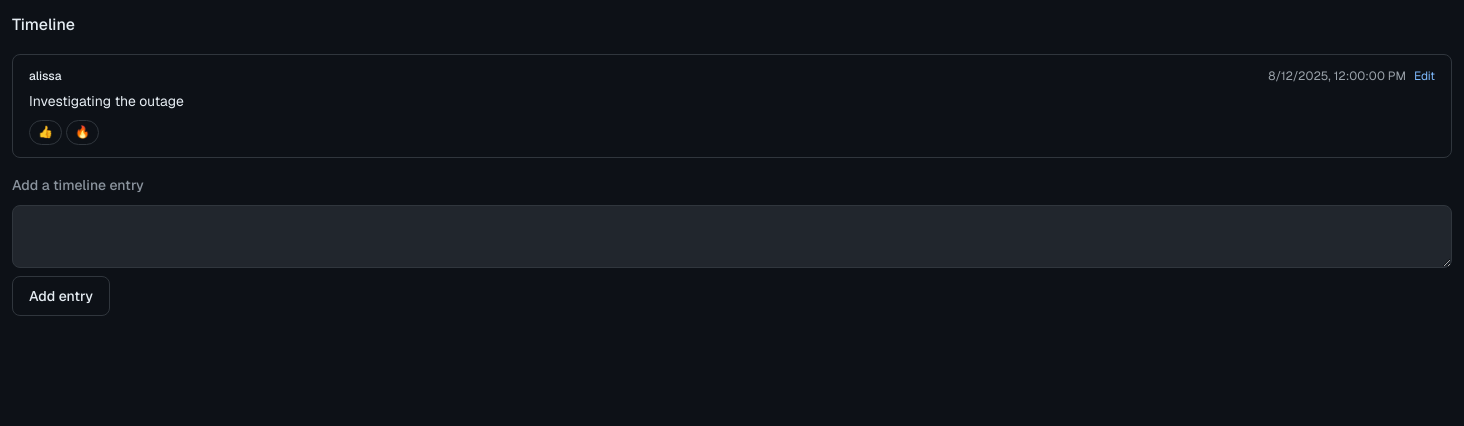
Scenario: Timeline — editing an entry › cancels editing without submitting anything
Click the button "Edit" at (1424, 76), box [1414,67,1435,86]
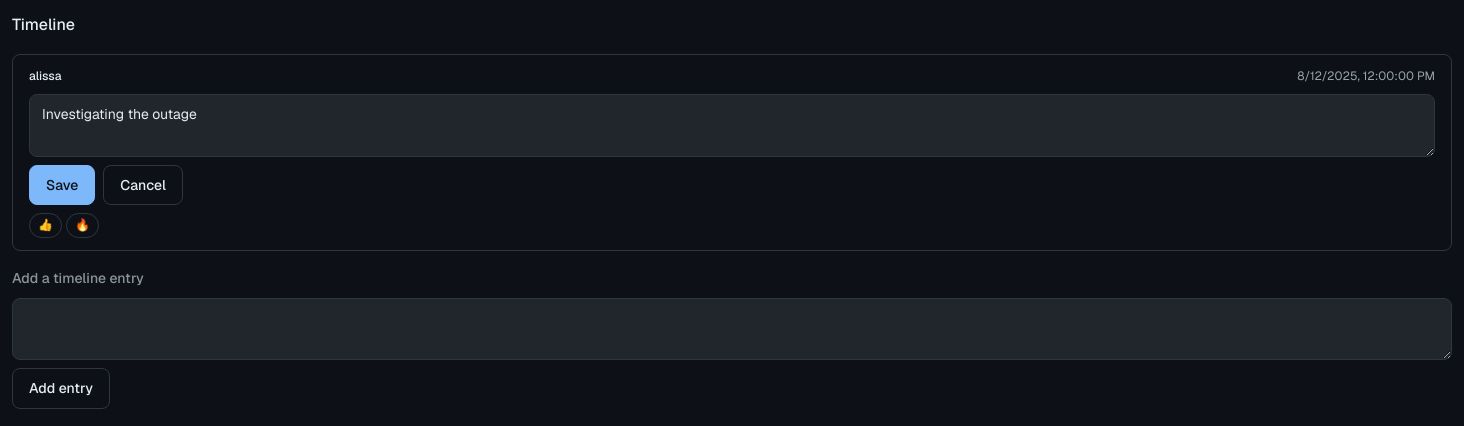
Click the button "Cancel" at (143, 185), box [103,165,183,205]
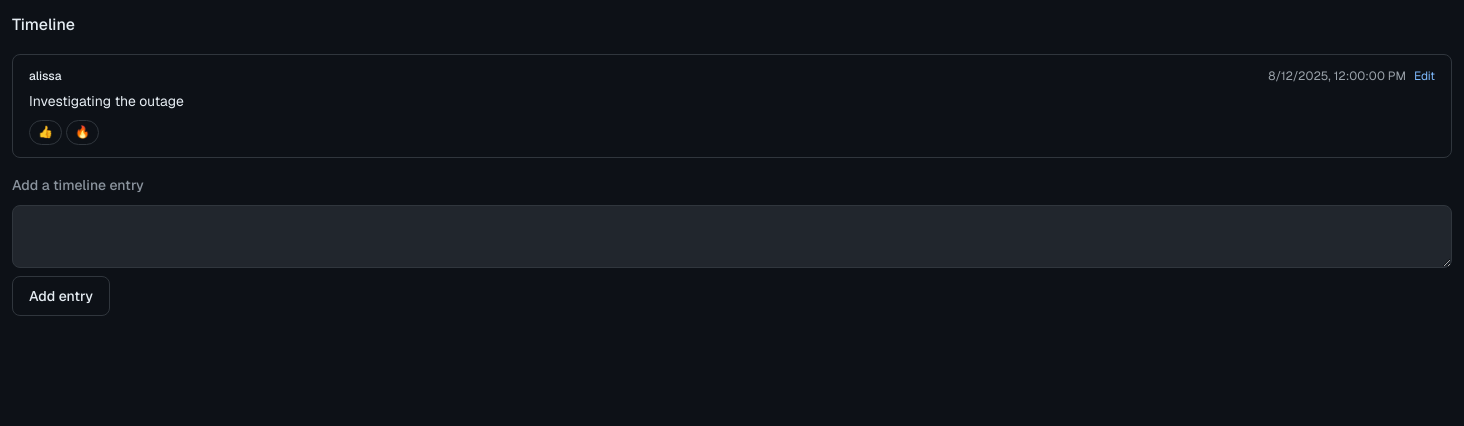
Expected: the field labelled "Edit timeline entry" is not shown
Result: the text "Investigating the outage" is shown at [29,92,184,110]
